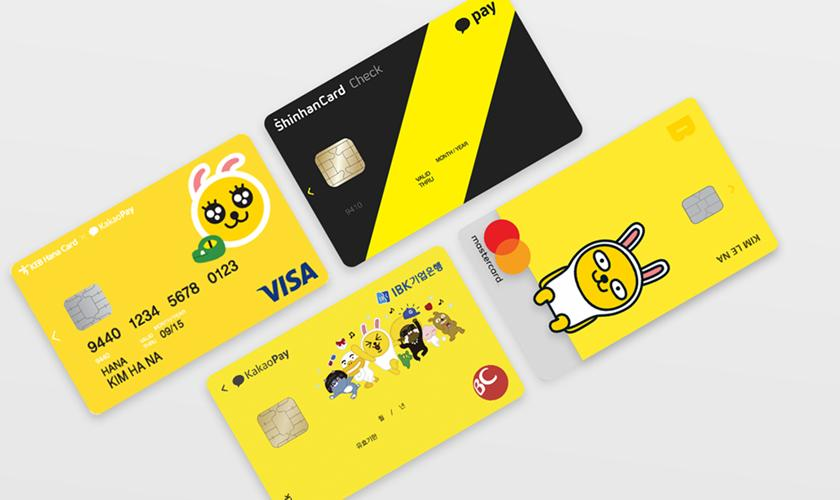Credit_card: (461, 98, 776, 379), (11, 134, 327, 413), (265, 0, 585, 266), (208, 247, 523, 499)
